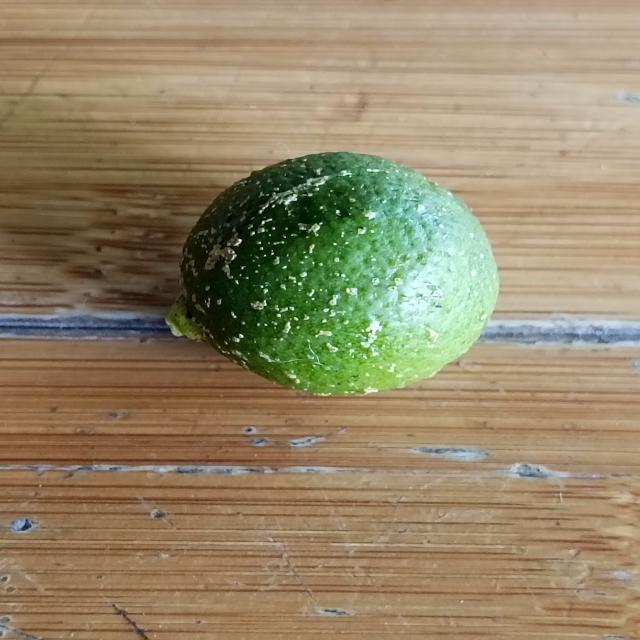scab: (169, 138, 521, 402)
